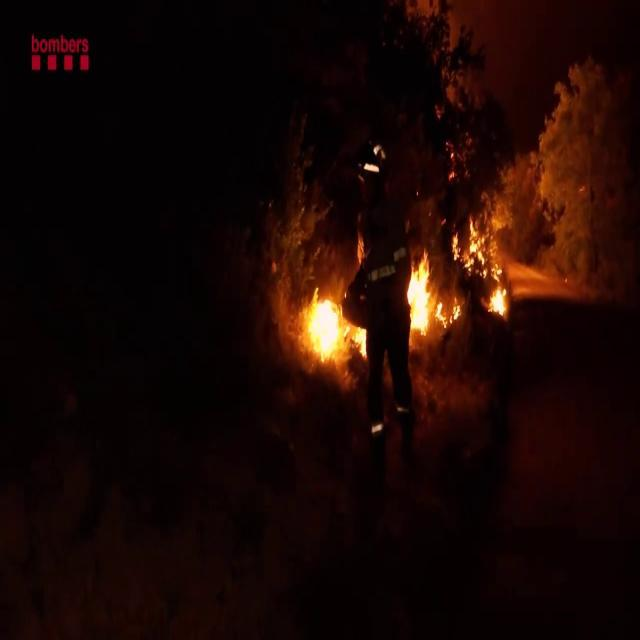Fire: (458, 209, 511, 320), (299, 281, 351, 367), (403, 248, 442, 336)
